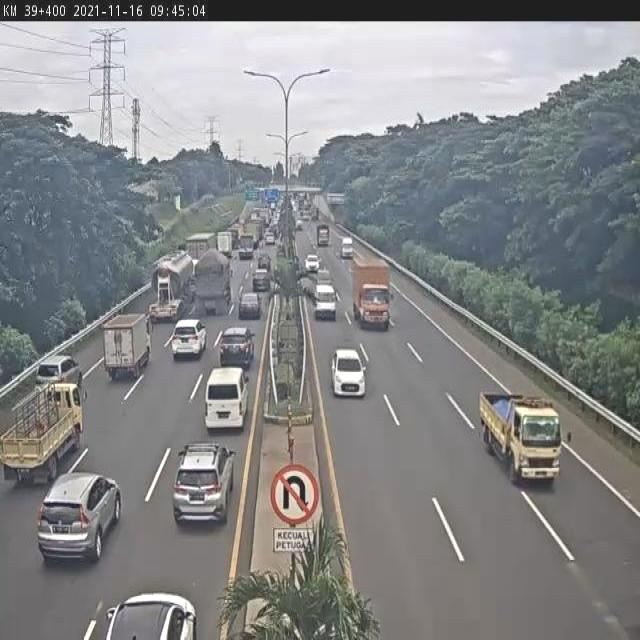Car: (35, 470, 120, 563), (172, 442, 236, 524), (104, 589, 201, 640), (35, 353, 84, 391), (330, 348, 366, 398), (219, 326, 256, 370), (171, 317, 207, 360), (238, 292, 261, 318), (252, 266, 270, 292), (256, 252, 272, 272), (305, 254, 320, 272), (266, 231, 276, 245)
Truck: (478, 388, 574, 490), (0, 380, 91, 483), (146, 249, 198, 320), (102, 313, 151, 382), (351, 254, 394, 332), (192, 248, 234, 316), (184, 233, 213, 263), (242, 221, 260, 249), (216, 231, 233, 259), (239, 233, 255, 259), (315, 222, 330, 248), (339, 236, 354, 259), (252, 215, 266, 237), (228, 225, 241, 248), (260, 206, 272, 226), (250, 209, 260, 225), (312, 207, 320, 220)
Van: (202, 366, 250, 432), (313, 282, 338, 322)
